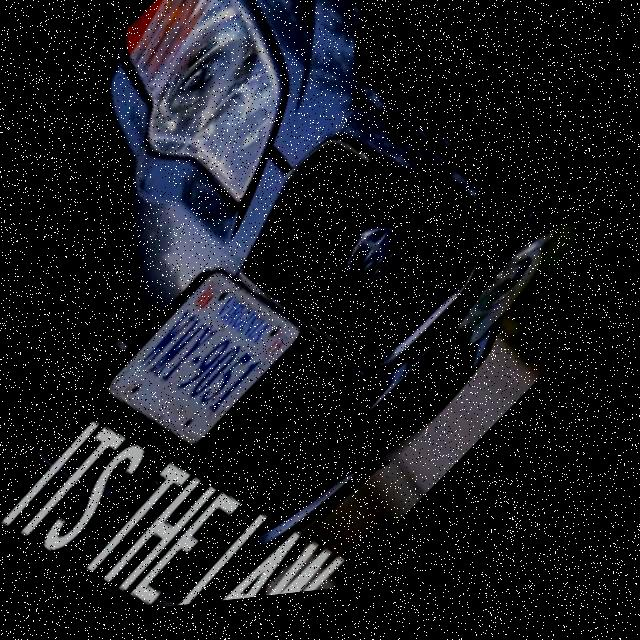license_plate: (113, 263, 326, 461)
